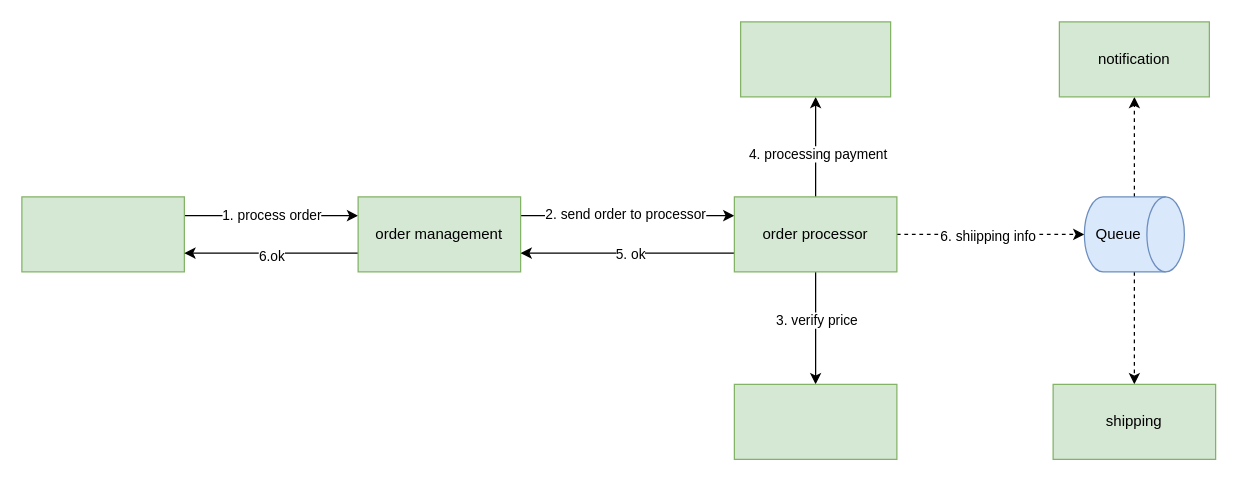
Some shapes in this 1238 by 481 pixel diagram are drawn without their labels. Each missing label, with the centre of its shape:
accounting: [815,421]
payment: [815,59]
web application: [102,234]
